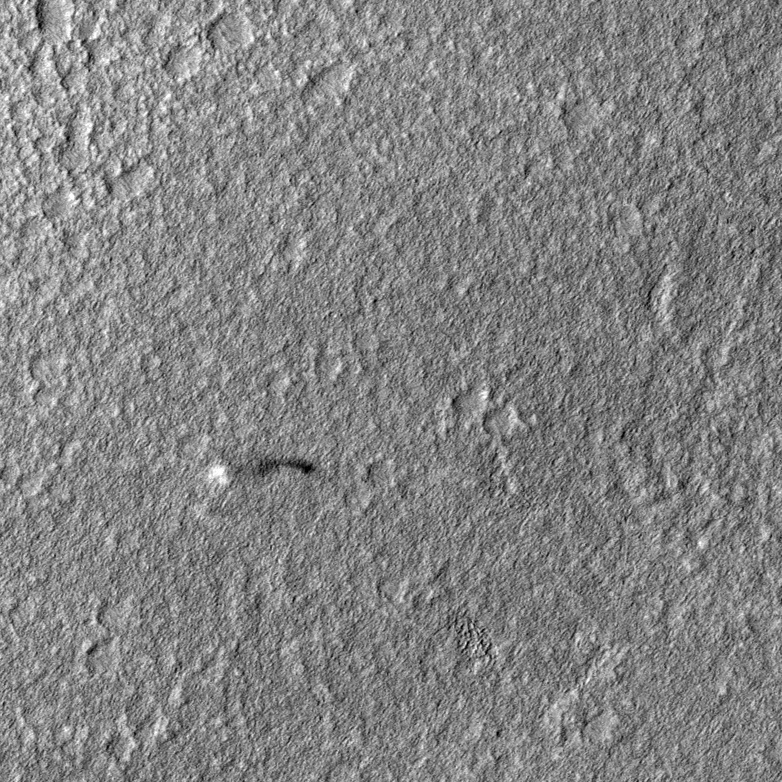dust_devil: (207, 453, 318, 489)
